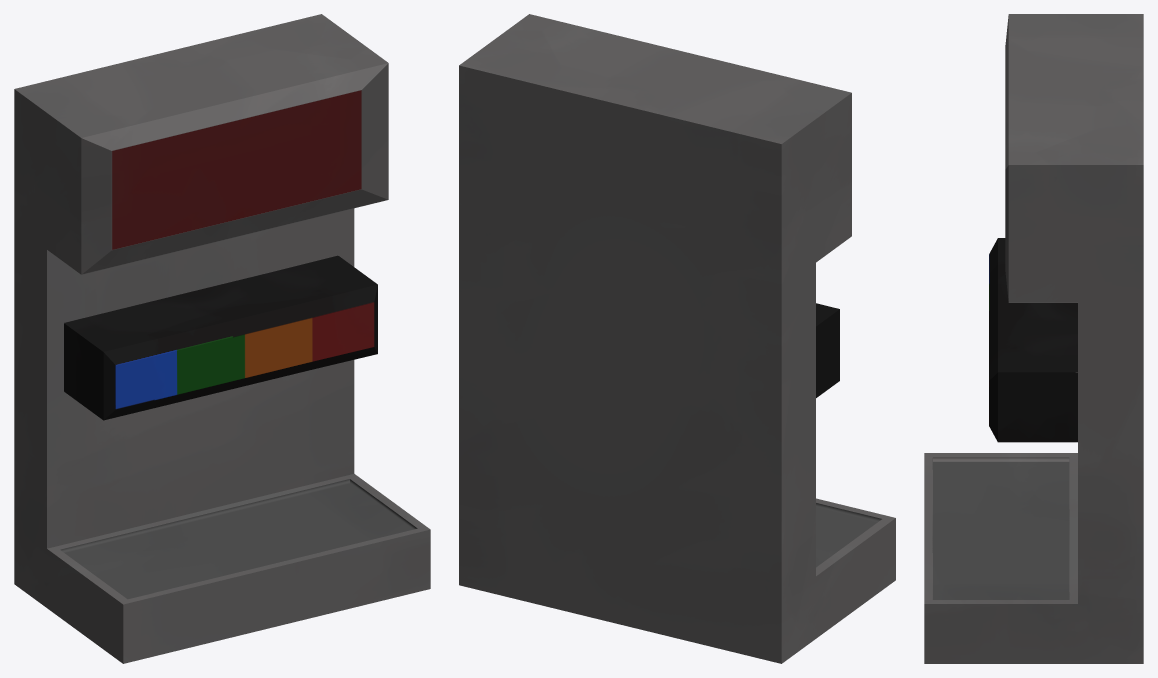
File: Waterdispenser.fbx
3 views of the same model, side by side, from view 1: azimuth 30°, elevation 25°; view 2: azimuth 150°, elevation 25°; view 3: azimuth 270°, elevation 25° (orthographic). The views are drawn at different scales.
Visible parts, largest first — view 1: WaterDispeser; view 2: WaterDispeser; view 3: WaterDispeser.
Part boxes in pixels (x1=…): WaterDispeser: x1=14, y1=14, x2=430, y2=663; WaterDispeser: x1=459, y1=14, x2=895, y2=663; WaterDispeser: x1=924, y1=14, x2=1143, y2=663.
Bounding box in the file's own units: 64.66 × 99.54 × 39.68.
